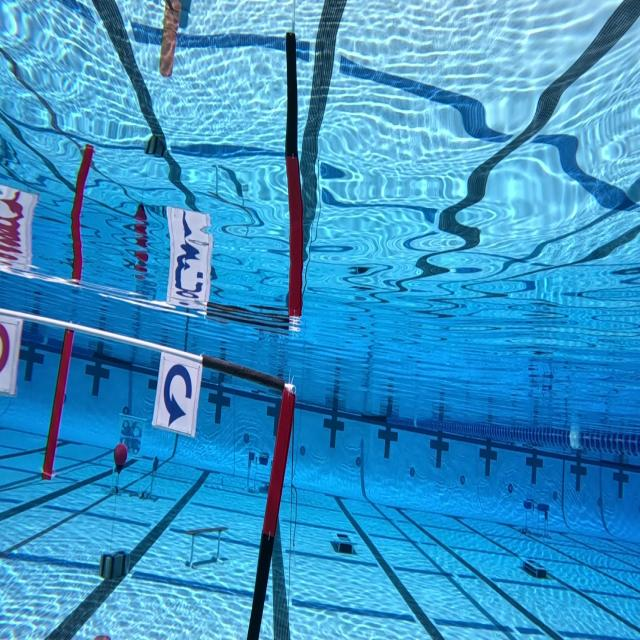blue_side: (153, 347, 208, 442)
